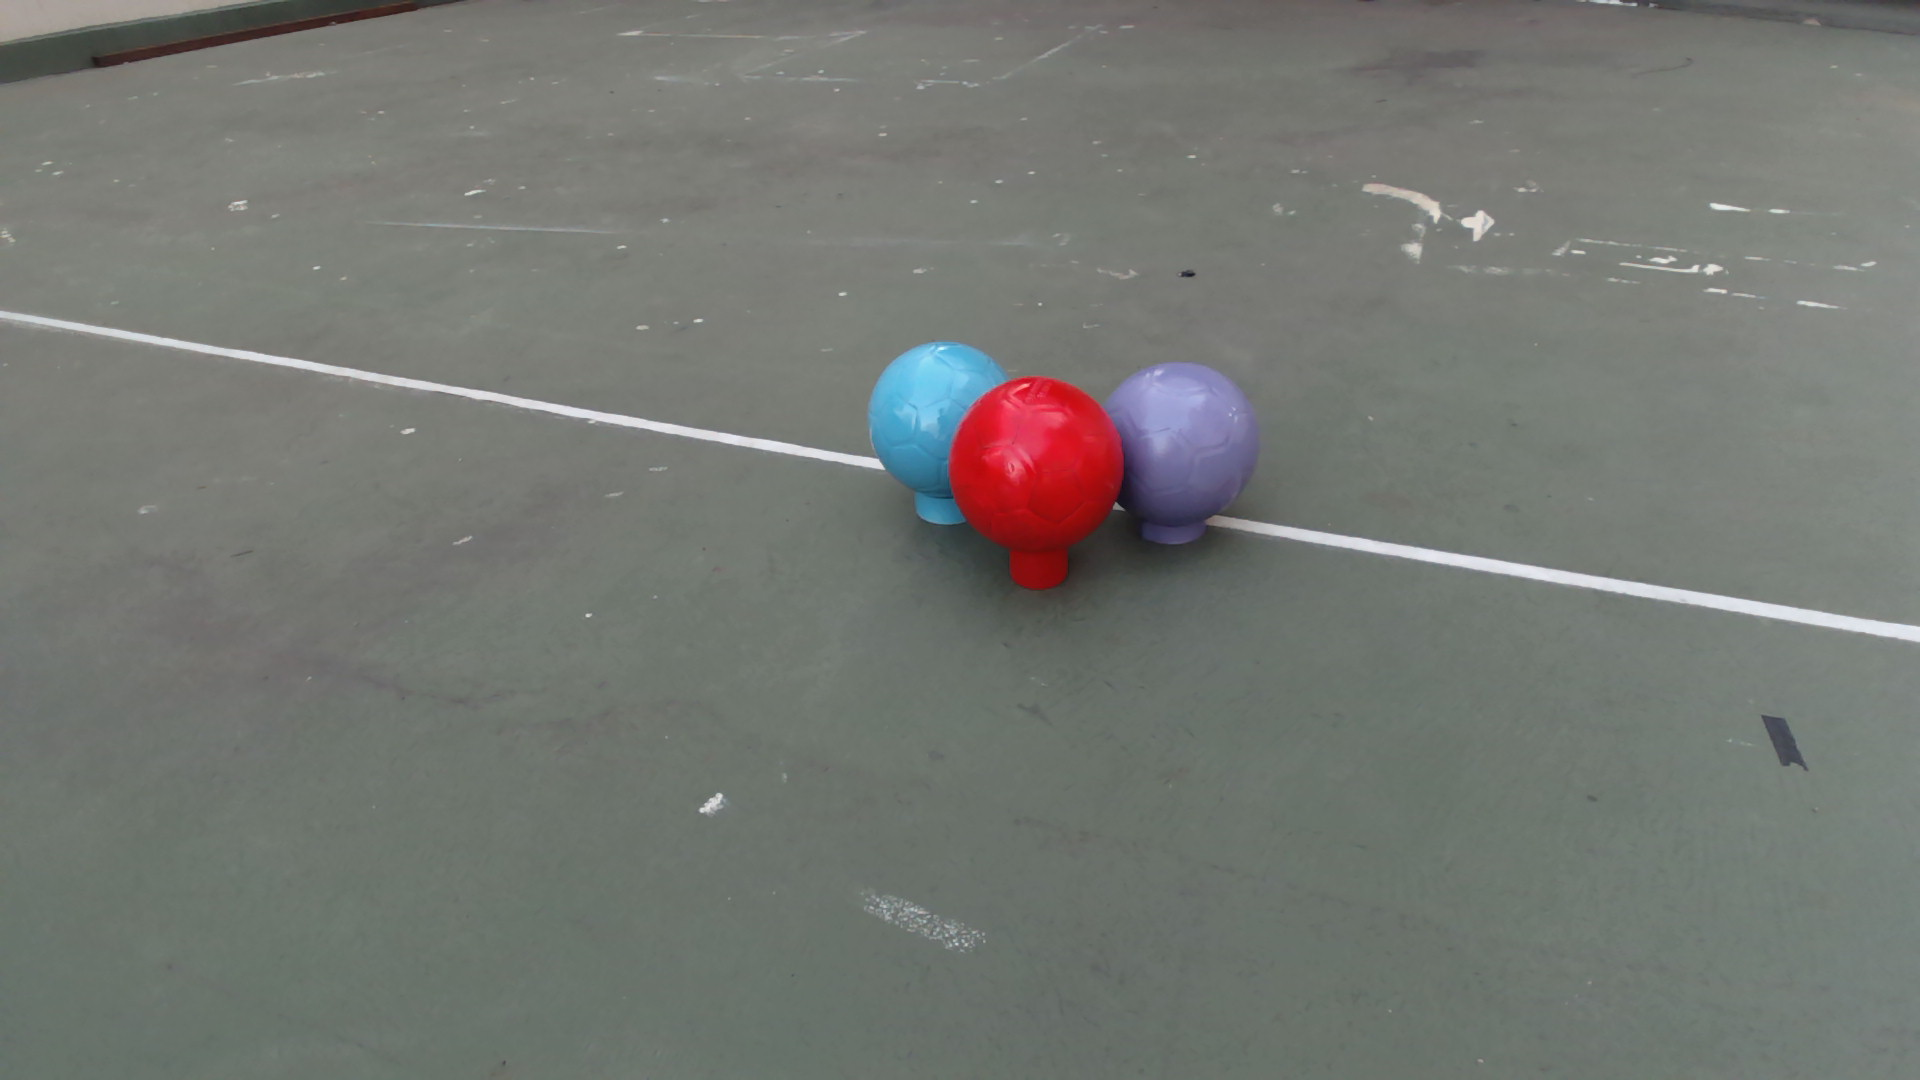Blue ball: (866, 338, 1005, 497)
Purple ball: (1101, 360, 1261, 527)
Red ball: (947, 375, 1125, 555)
